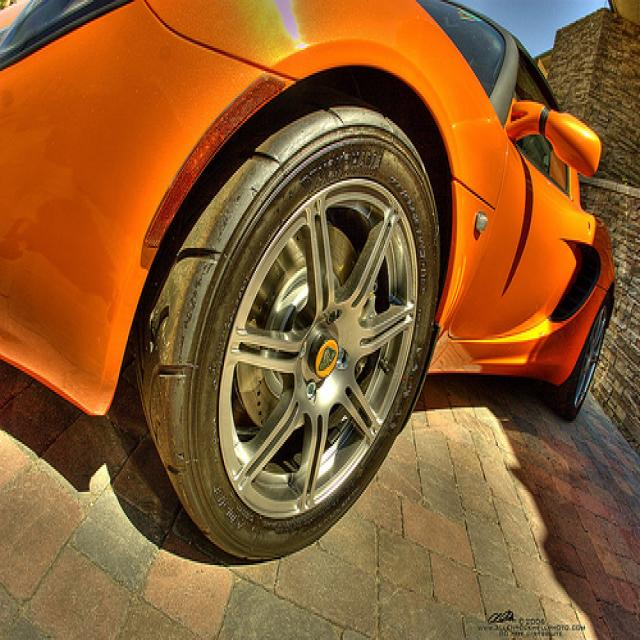Car: (0, 0, 639, 575)
